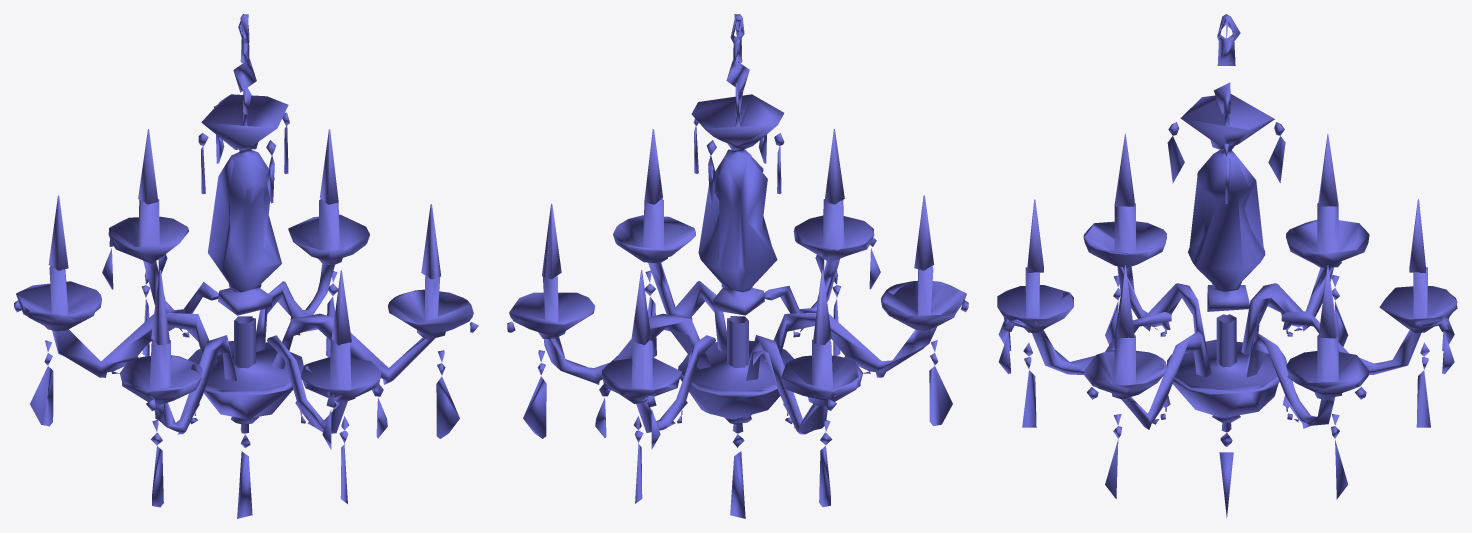
Rendered from model.progressive.glb.
3 renders of one model, left to right at view 1: azimuth 30°, elevation 25°; view 2: azimuth 150°, elevation 25°; view 3: azimuth 270°, elevation 25°, orthographic.
Parts seen in each view (by area): view 1: material; view 2: material; view 3: material.
Boxes of the visible parts, left/top/right/bottom form: material: left=14, top=14, right=478, bottom=518; material: left=507, top=14, right=968, bottom=518; material: left=997, top=14, right=1457, bottom=517.
Size of the model in its own units: 1.33 by 1.87 by 1.56.
Materials: 1 (1 with a texture image).
